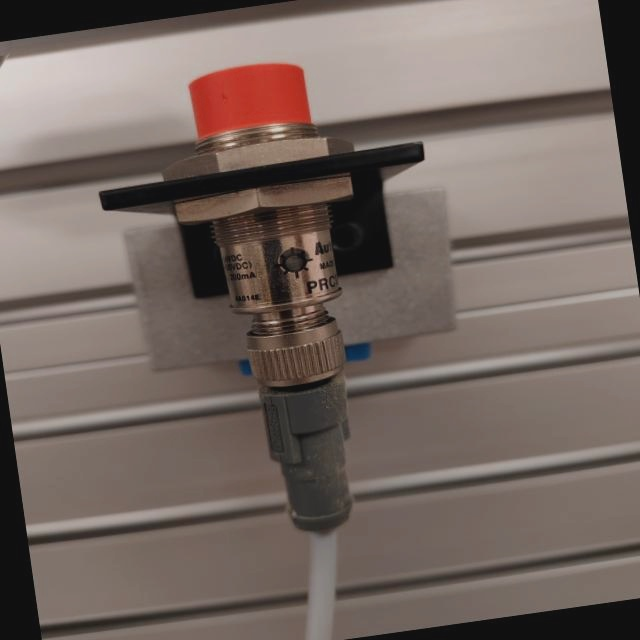inductive sensor: (79, 31, 507, 566)
